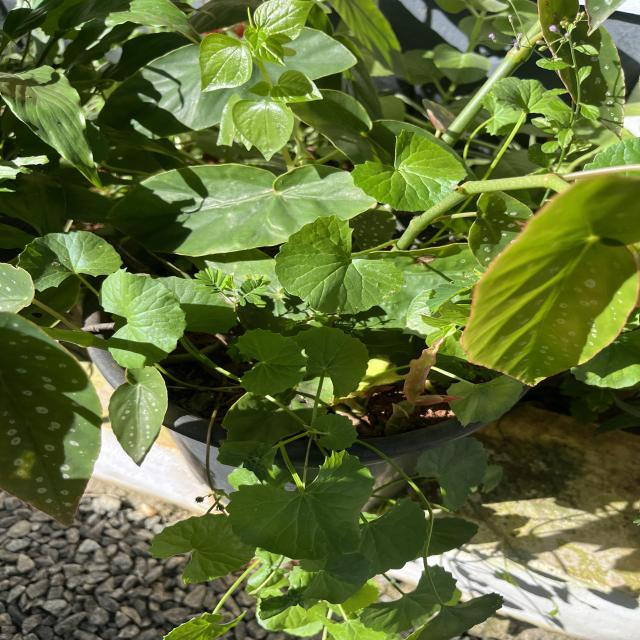Centella asiatica: (222, 448, 378, 562), (271, 212, 409, 316), (348, 127, 470, 214), (95, 266, 190, 372), (146, 511, 259, 586), (288, 324, 372, 400), (232, 326, 311, 398)
